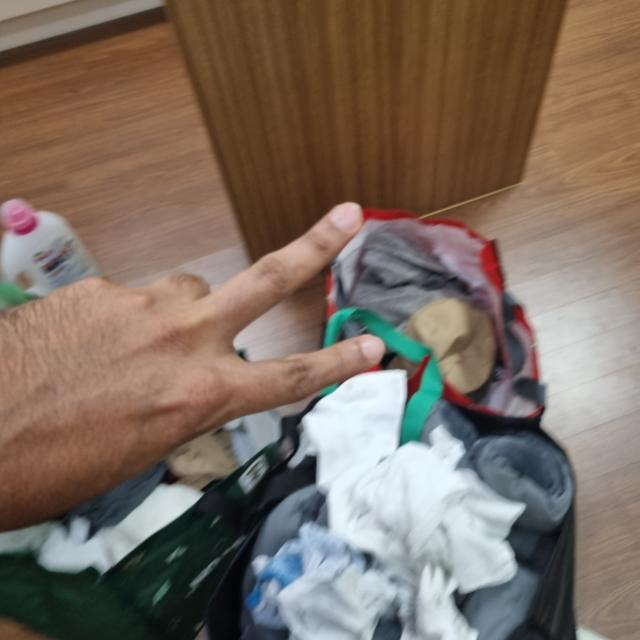Scissors: (0, 204, 389, 540)
